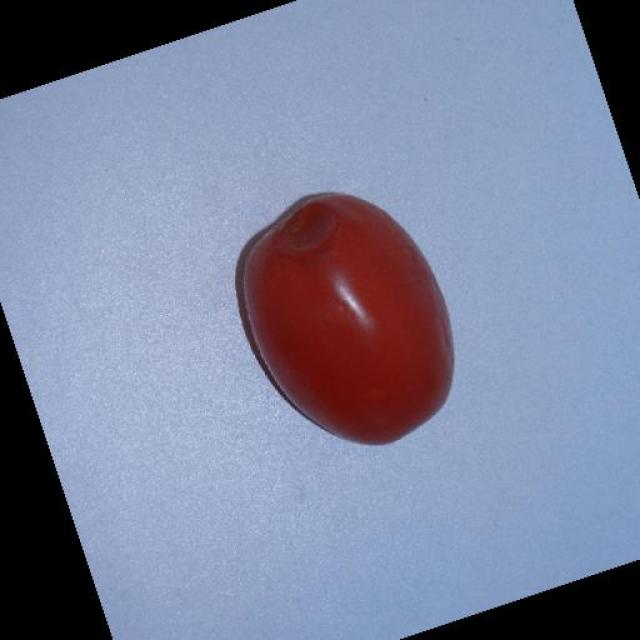Stale_tomato: (226, 186, 452, 420)
